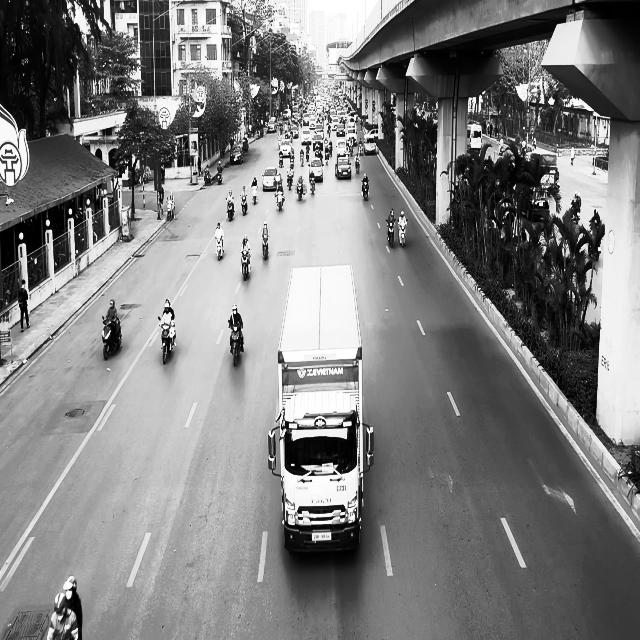car: (262, 166, 279, 191), (308, 157, 324, 182), (335, 156, 351, 179), (230, 145, 243, 164)
motorbike: (101, 316, 122, 360), (157, 316, 176, 364), (228, 321, 244, 366), (240, 249, 251, 280), (398, 218, 407, 246), (385, 219, 394, 247), (215, 233, 224, 260), (226, 198, 235, 221), (275, 189, 284, 211), (262, 234, 269, 260), (295, 181, 304, 201), (361, 178, 369, 200), (286, 168, 293, 190), (251, 184, 258, 204), (216, 169, 223, 184)
truck: (267, 263, 374, 554)
